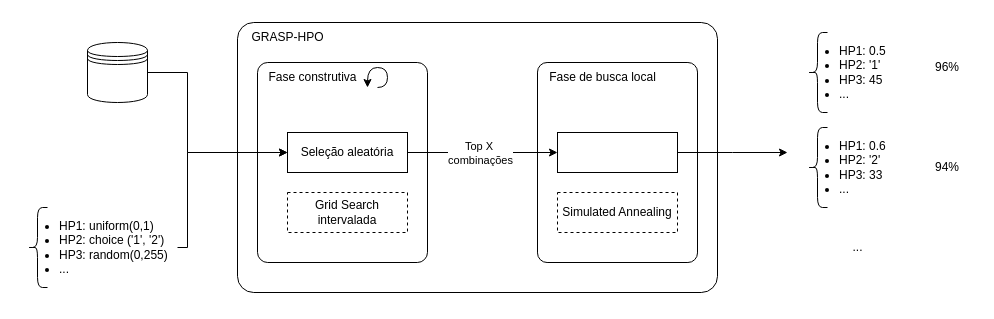
Image size: 994x319. Some labels were removed from this diagram. The shapes that lost their labels are listed below. From the top down, each one's centre as x and y in pixels, then its label:
At [117,72]: "dataset".
At [617,152]: "Hill Climbing".
